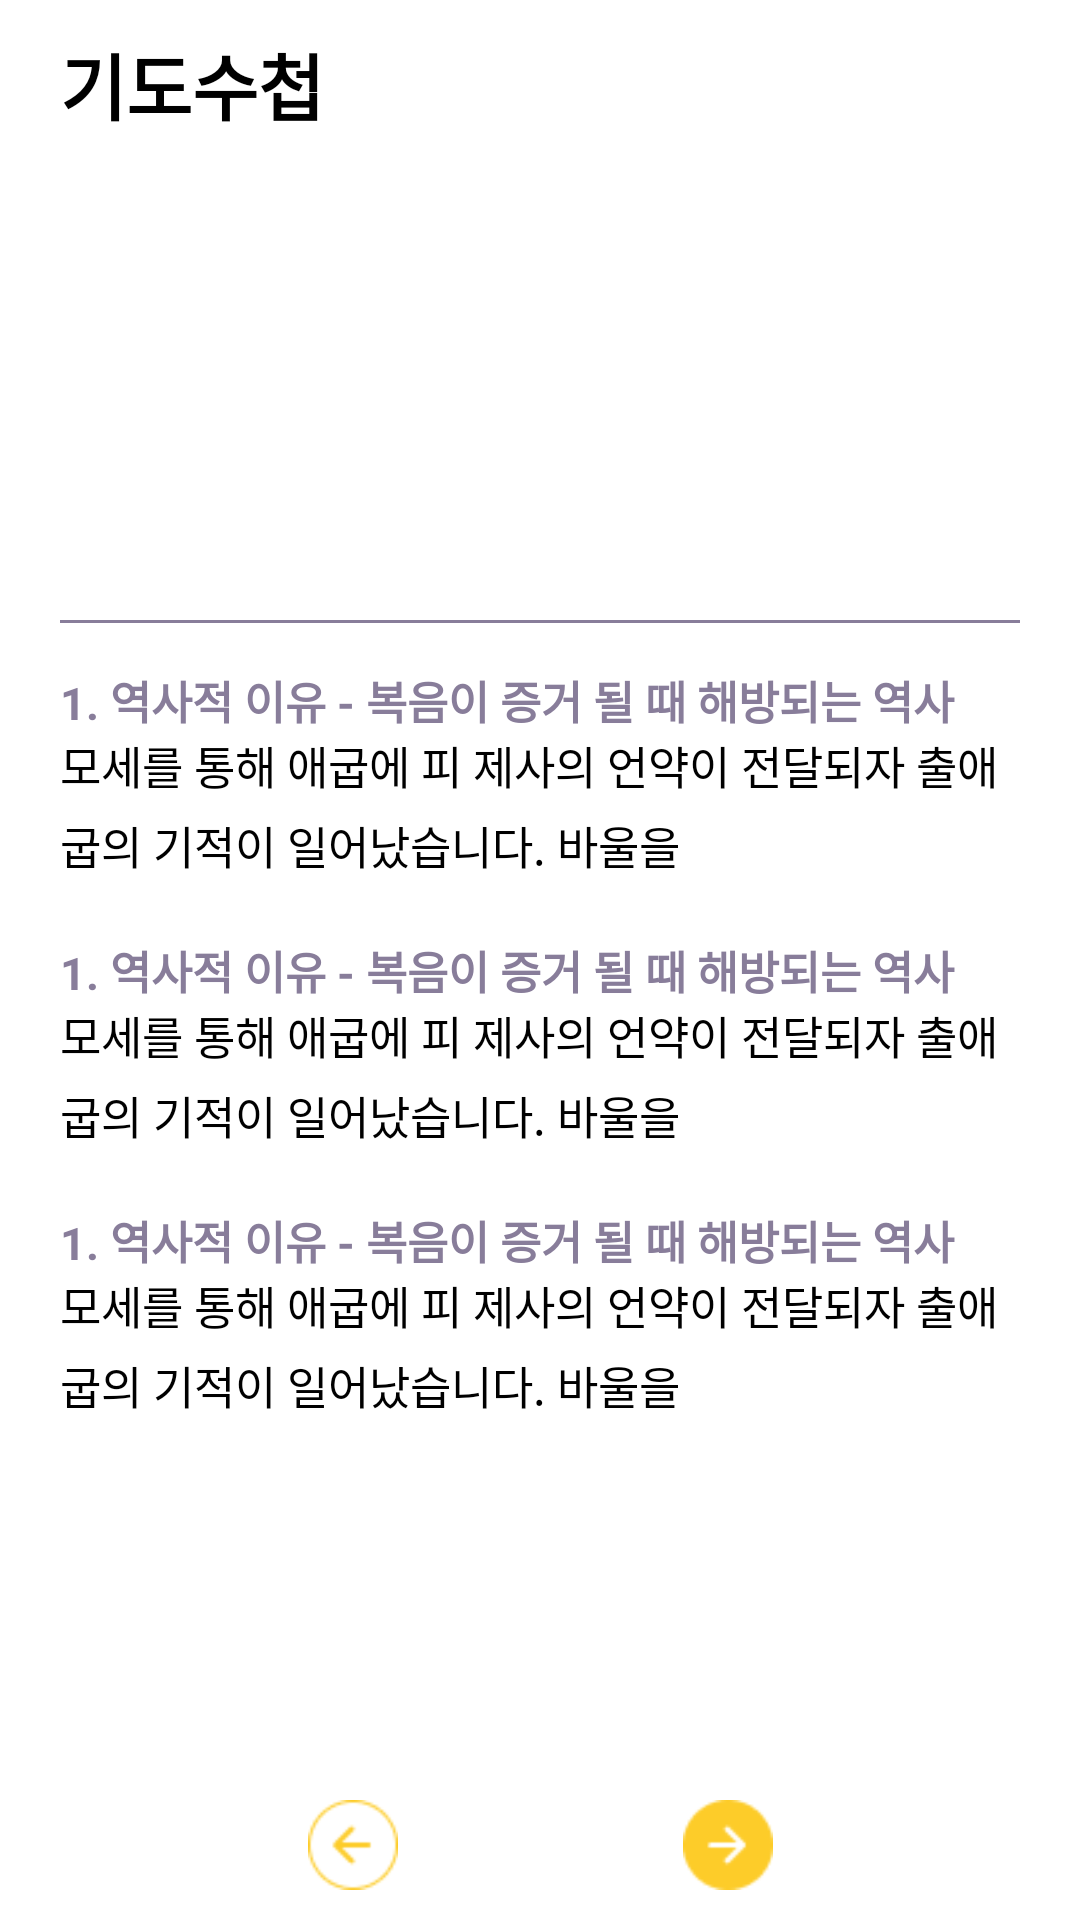

Point at icon controls on the screen. Image size 1080px x 1920px, points as (x=x, y=y).
page next: (x=728, y=1845)
page prev: (x=353, y=1845)
